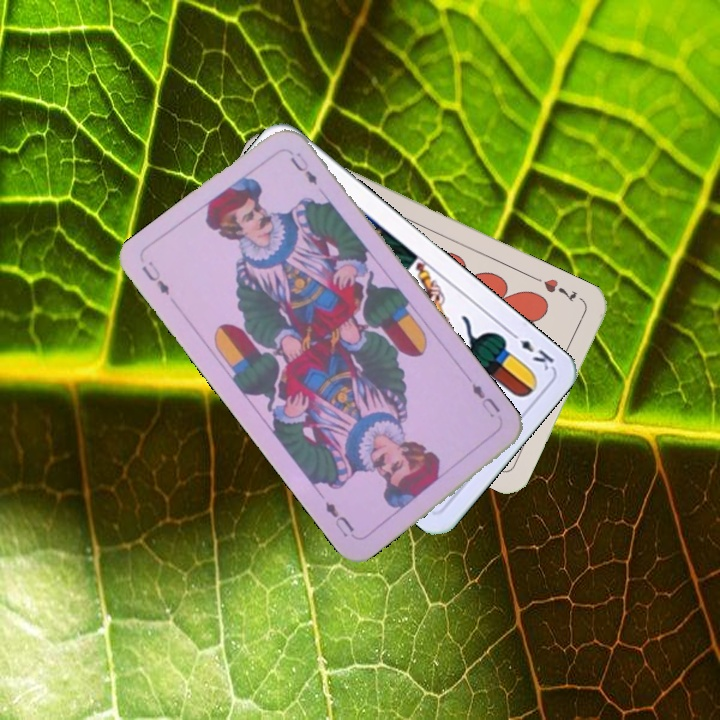EK: (505, 327, 557, 373)
EU: (137, 257, 173, 299), (467, 379, 503, 420)
H7: (539, 274, 580, 305)
